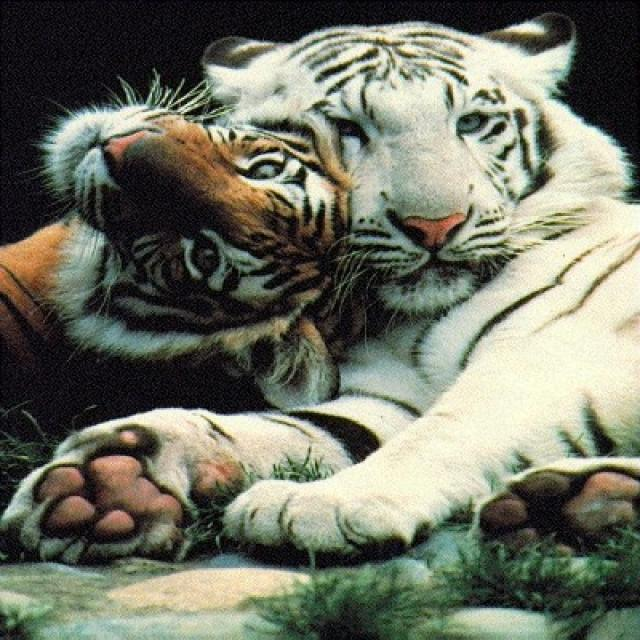Tiger: (0, 13, 638, 565)
